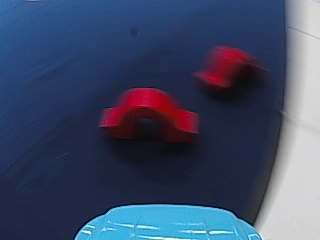bridge: (93, 82, 202, 144), (193, 41, 254, 98)
